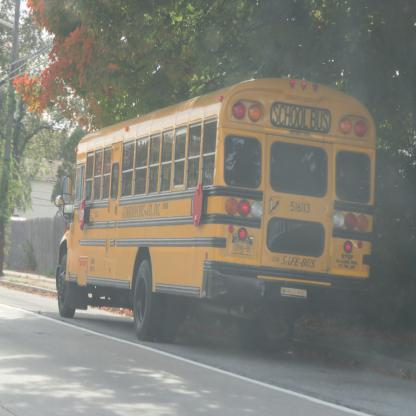Bus: (55, 77, 375, 342)
